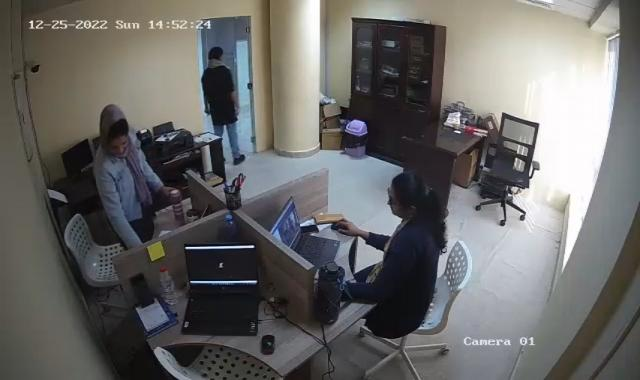no_hairnet: (98, 104, 133, 158), (389, 174, 427, 217), (207, 44, 224, 64)
